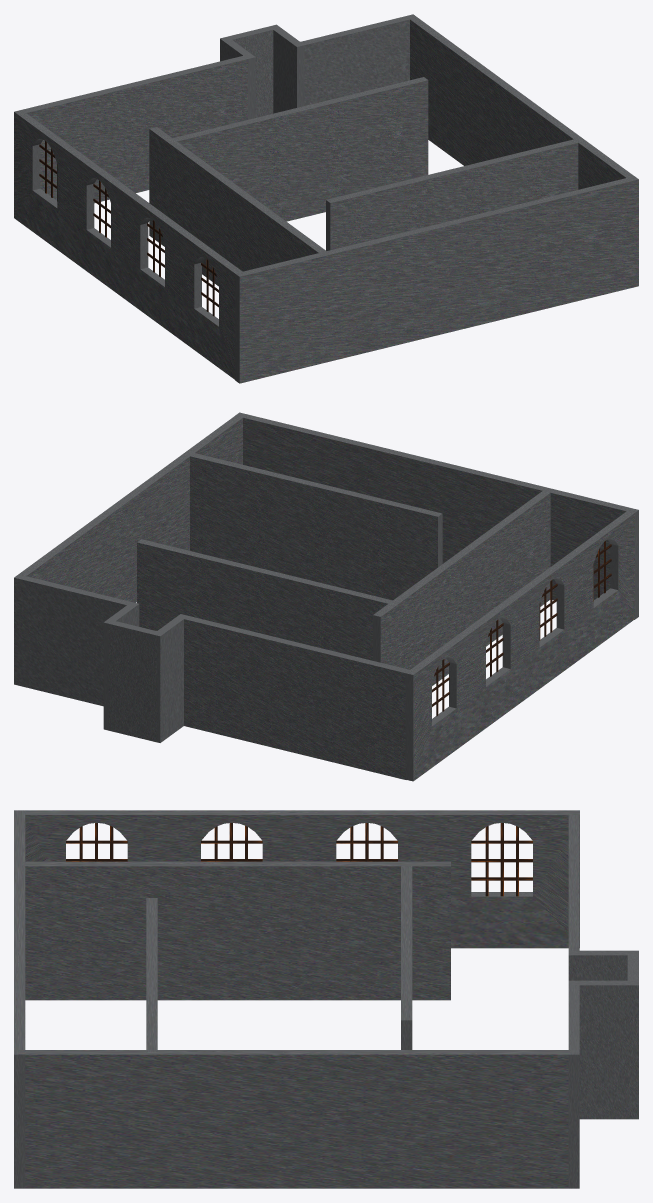
File: level2Walls_exported.fbx
3 views of the same model, one above another, from view 1: azimuth 30°, elevation 25°; view 2: azimuth 150°, elevation 25°; view 3: azimuth 270°, elevation 25° (orthographic). The views are drawn at different scales.
Parts seen in each view (by area): view 1: polySurface35; view 2: polySurface35; view 3: polySurface35.
Boxes of the visible parts, x1,y1,x2,y2 form: polySurface35: [14, 14, 638, 383]; polySurface35: [14, 412, 638, 781]; polySurface35: [14, 810, 638, 1188].
Size of the model in its own units: 51.37 by 13.13 by 55.51.
